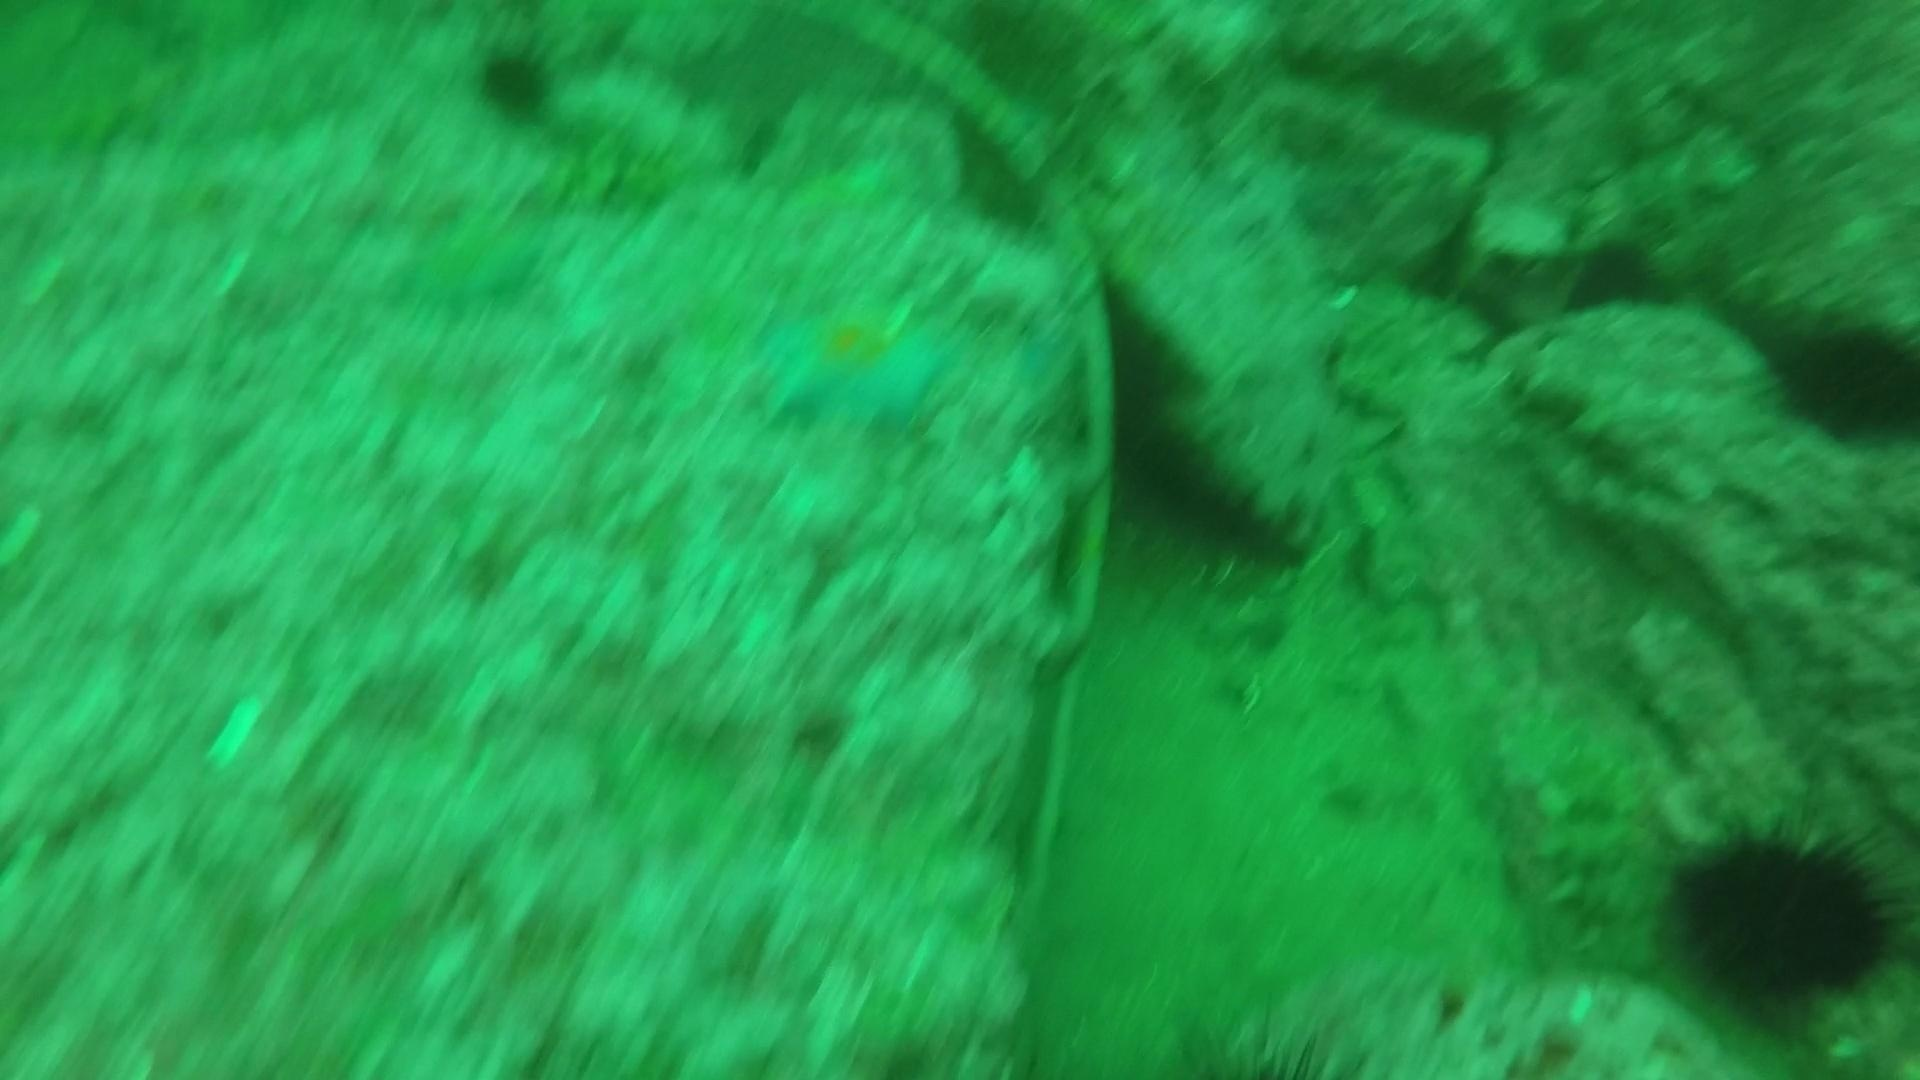echinus: (1654, 808, 1909, 1025), (1763, 309, 1919, 450), (1557, 232, 1665, 319), (467, 40, 562, 127)
holothurian: (1487, 721, 1639, 944)
starfish: (746, 282, 959, 440), (386, 204, 550, 314)
